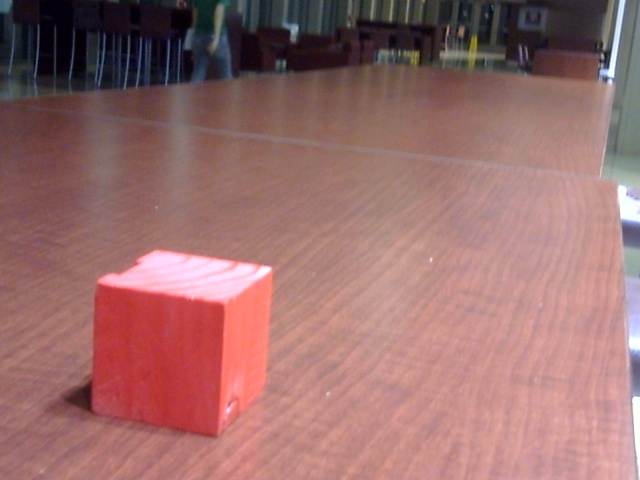RedBlock: (92, 281, 265, 435)
